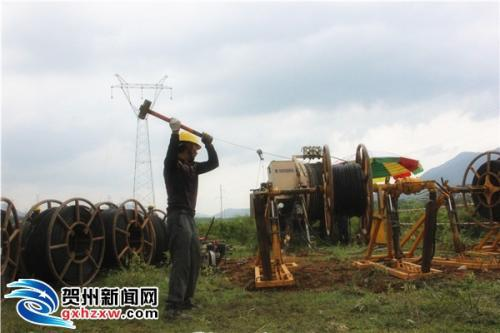helmet: (172, 128, 210, 164)
